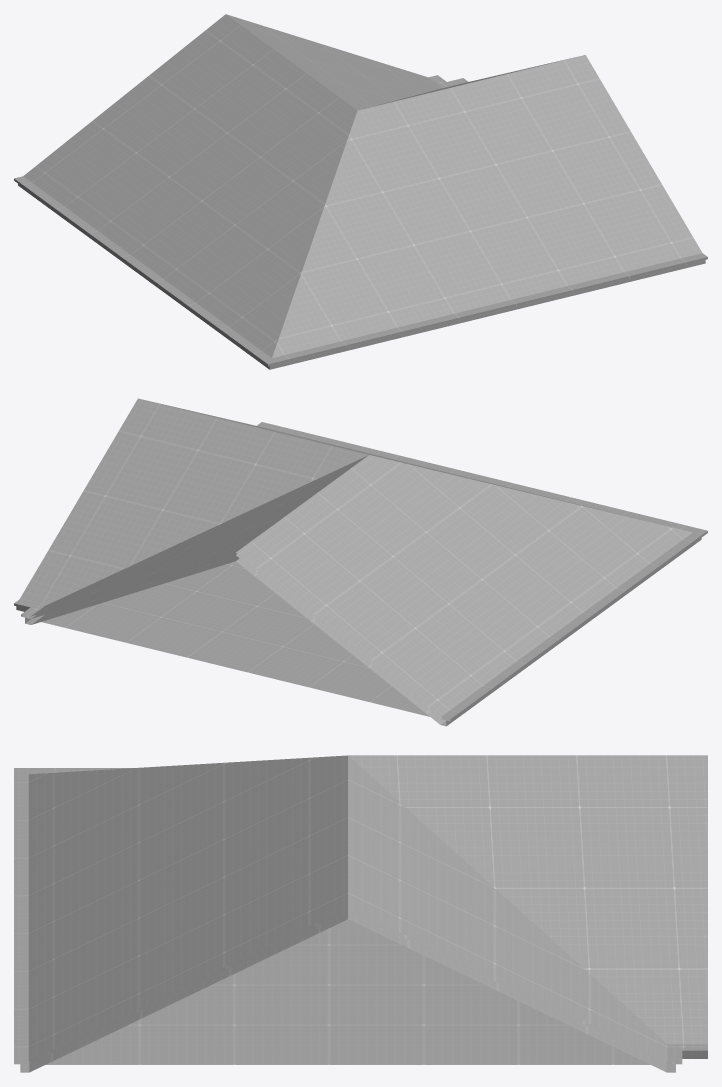
File: Roof.fbx
3 views of the same model, one above another, from view 1: azimuth 30°, elevation 25°; view 2: azimuth 150°, elevation 25°; view 3: azimuth 270°, elevation 25° (orthographic). The views are drawn at different scales.
Parts seen in each view (by area): view 1: Roof; view 2: Roof; view 3: Roof.
Part boxes in pixels (left/top/right/bottom): Roof: left=14, top=14, right=707, bottom=369; Roof: left=14, top=398, right=707, bottom=726; Roof: left=14, top=755, right=707, bottom=1072.
Size of the model in its own units: 733 by 192 by 733.
